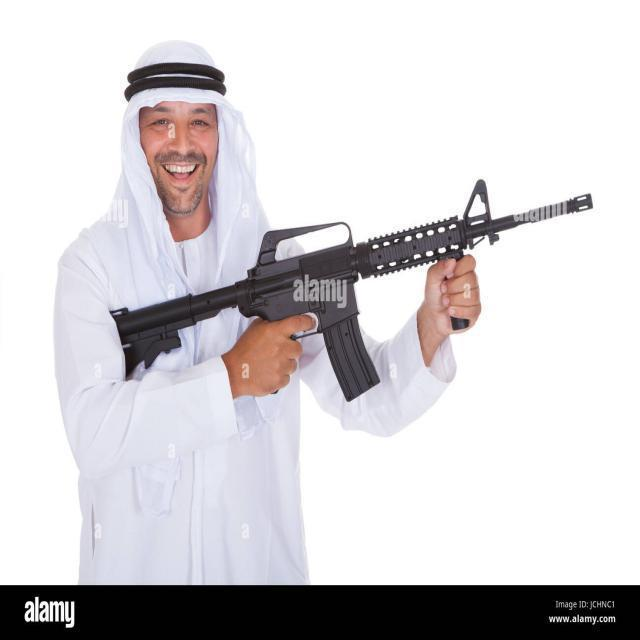gun: (115, 174, 592, 400)
